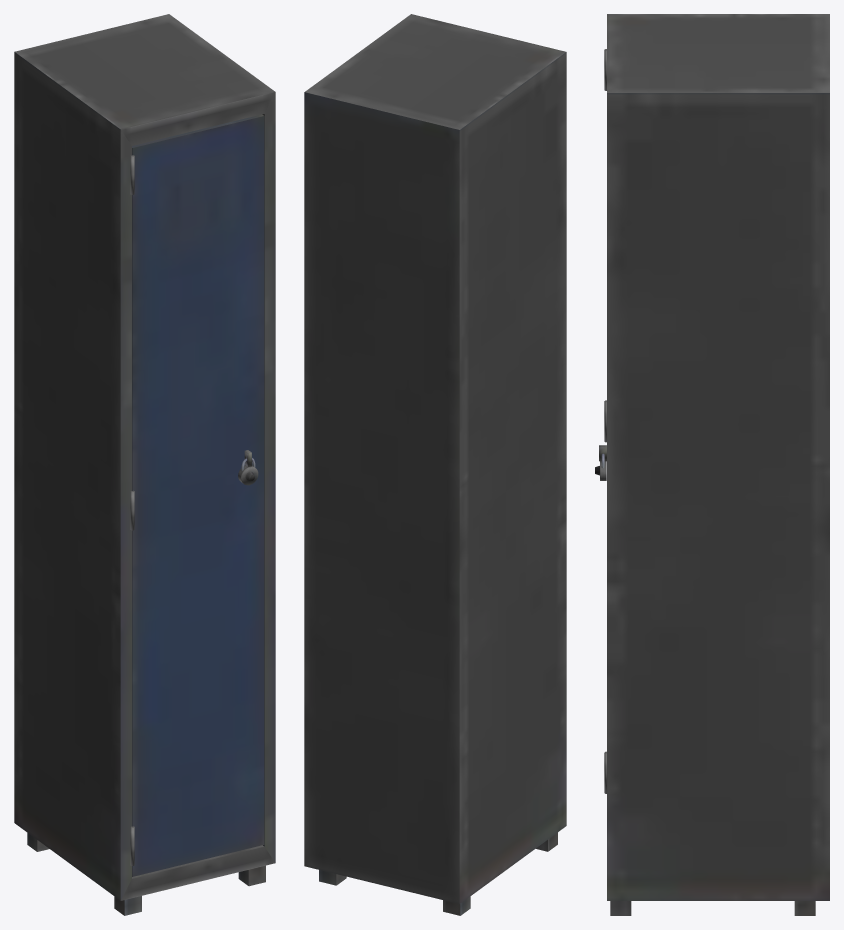
The model's file is locker-blue--2.gltf.
3 views of the same model, side by side, from view 1: azimuth 30°, elevation 25°; view 2: azimuth 150°, elevation 25°; view 3: azimuth 270°, elevation 25° (orthographic). The views are drawn at different scales.
Parts seen in each view (by area): view 1: part-2; view 2: part-2; view 3: part-2.
Part boxes in pixels (box(x1,y1,x2,y2)): part-2: box(14, 14, 275, 915); part-2: box(304, 14, 566, 915); part-2: box(595, 14, 829, 915).
Size of the model in its own units: 0.3753 by 1.83 by 0.471.
1 material, 1 textured.
